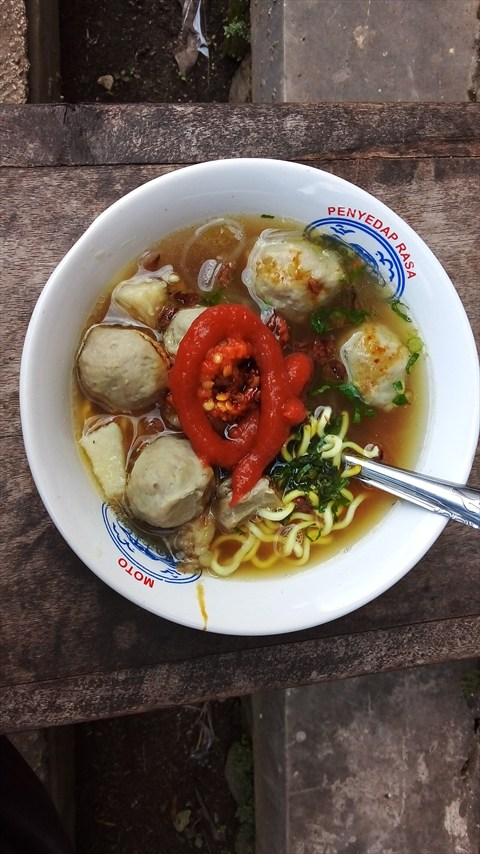Bakso: (52, 141, 464, 649)
